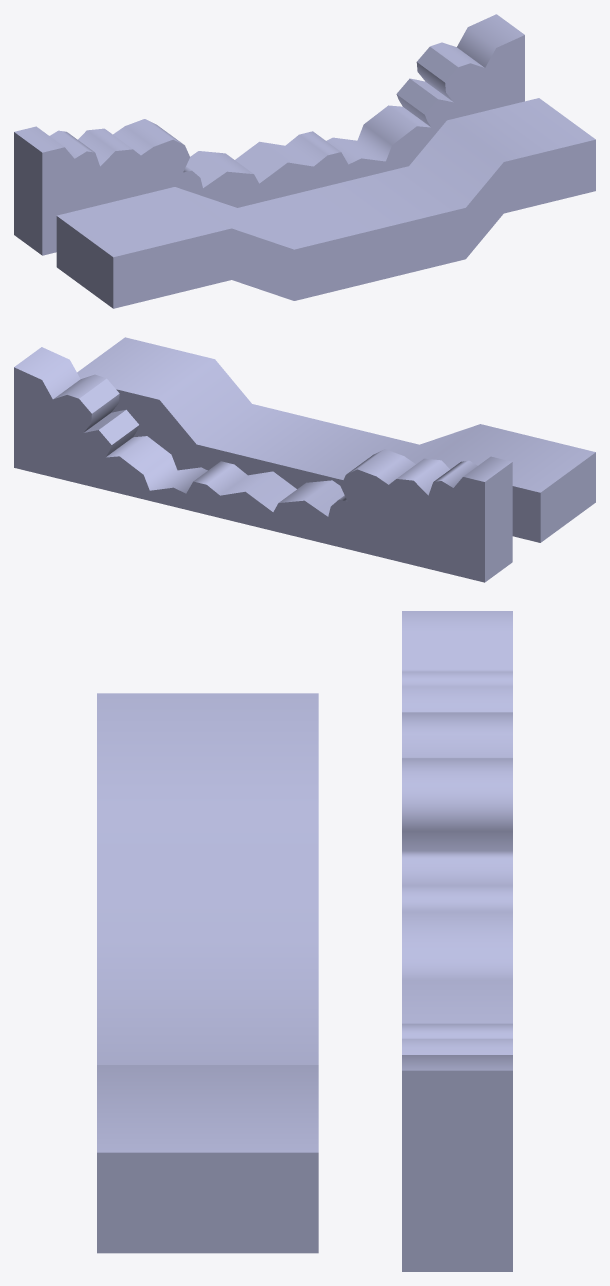
The model's file is SlopeLeft.fbx.
The picture shows the model from 3 angles, top to bottom: view 1: azimuth 30°, elevation 25°; view 2: azimuth 150°, elevation 25°; view 3: azimuth 270°, elevation 25°; orthographic projection. The views are drawn at different scales.
Visible parts, largest first — view 1: SlopeLeftTrack, SlopeLeft; view 2: SlopeLeft, SlopeLeftTrack; view 3: SlopeLeftTrack, SlopeLeft.
Part boxes in pixels (bbox=[...]): SlopeLeftTrack: bbox=[56, 98, 595, 308]; SlopeLeft: bbox=[14, 14, 524, 255]; SlopeLeft: bbox=[14, 347, 512, 582]; SlopeLeftTrack: bbox=[77, 337, 595, 542]; SlopeLeftTrack: bbox=[97, 693, 318, 1253]; SlopeLeft: bbox=[402, 611, 512, 1271].
Bounding box in the file's own units: 49.74 × 12.96 × 18.75.
